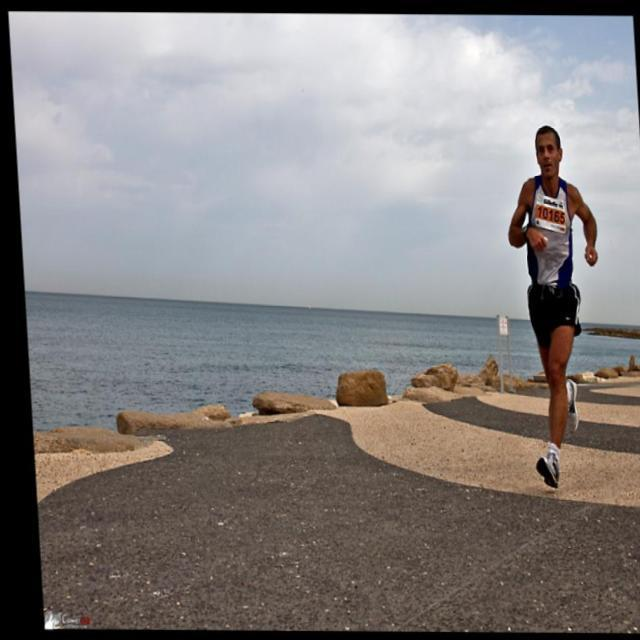dorsal: (526, 191, 568, 236)
